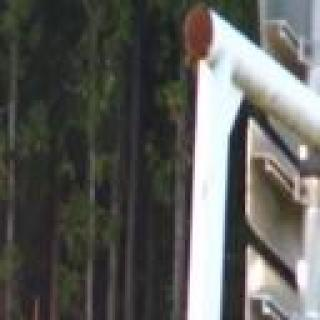fire: (0, 295, 18, 320)
